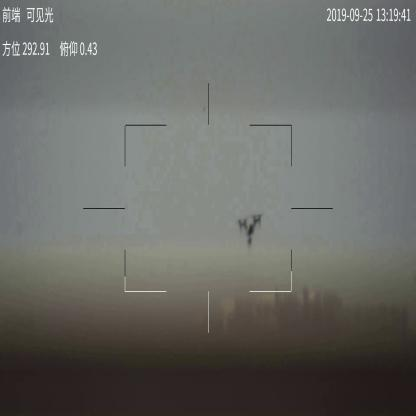uav: (235, 213, 262, 245)
